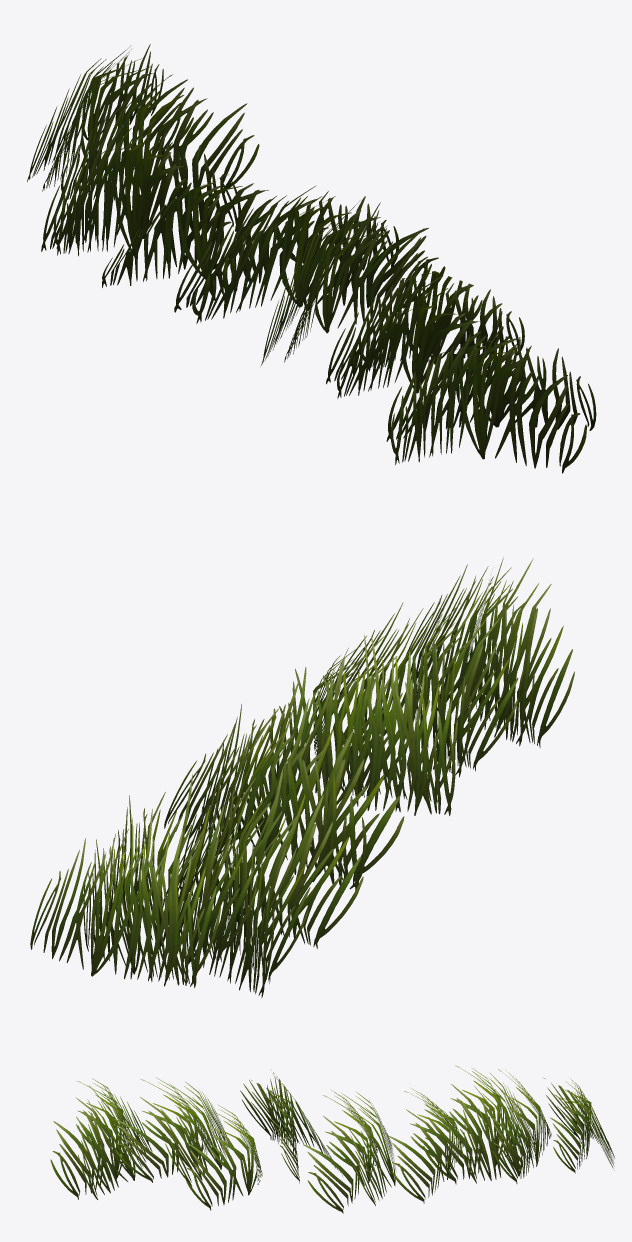
File: grassKit_front_border_r.fbx
3 renders of one model, top to bottom at view 1: azimuth 30°, elevation 25°; view 2: azimuth 150°, elevation 25°; view 3: azimuth 270°, elevation 25°, orthographic. The views are drawn at different scales.
Visible parts, largest first — view 1: grassKit_front_border_r; view 2: grassKit_front_border_r; view 3: grassKit_front_border_r.
Boxes of the visible parts, x1,y1,x2,y2 form: grassKit_front_border_r: (27,44,596,473); grassKit_front_border_r: (30,557,574,997); grassKit_front_border_r: (50,1065,614,1213).
Size of the model in its own units: 1.6 by 1.14 by 4.63.
